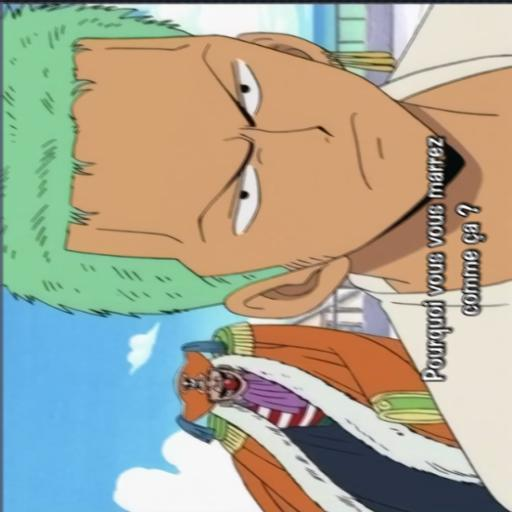Zoro: (3, 0, 512, 418)
